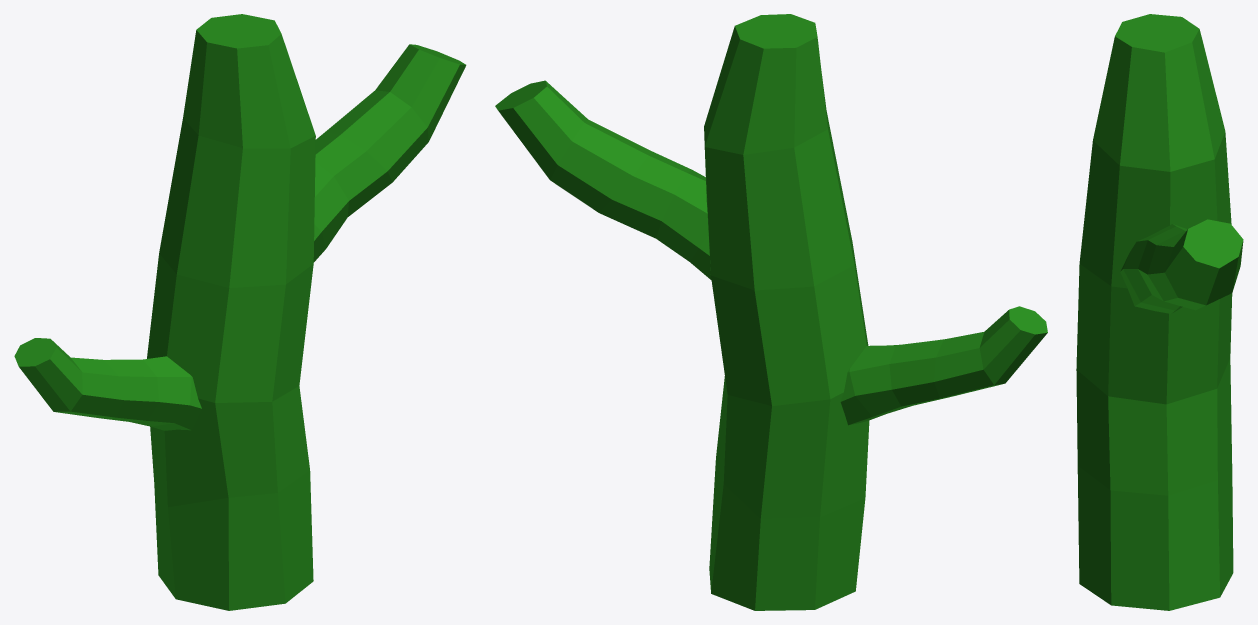
The model's file is Cactus00.fbx.
3 renders of one model, left to right at view 1: azimuth 30°, elevation 25°; view 2: azimuth 150°, elevation 25°; view 3: azimuth 270°, elevation 25°, orthographic.
Visible parts, largest first — view 1: Cactus; view 2: Cactus; view 3: Cactus.
Boxes of the visible parts, x1,y1,x2,y2 form: Cactus: (14, 14, 466, 610); Cactus: (495, 14, 1047, 610); Cactus: (1076, 14, 1243, 610).
Bounding box in the file's own units: 249 × 262 × 72.28.
